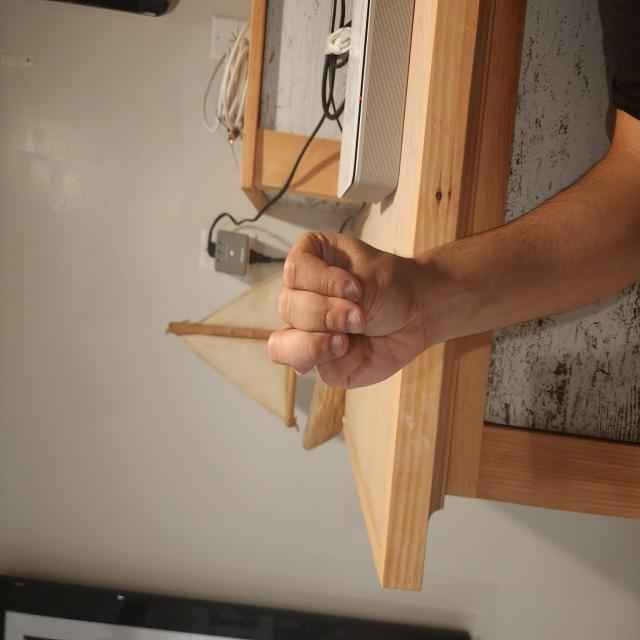M: (184, 353, 310, 572)
